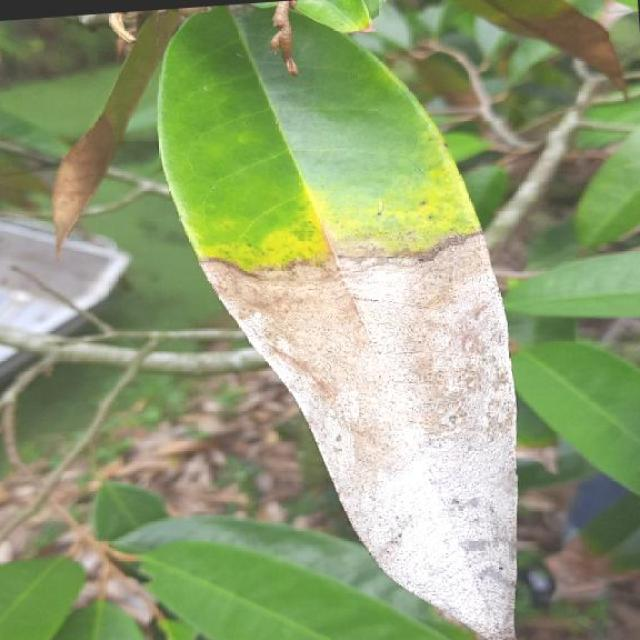Leaf Blight: (138, 0, 544, 640)
